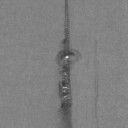slag inclusion: (55, 0, 82, 128)
